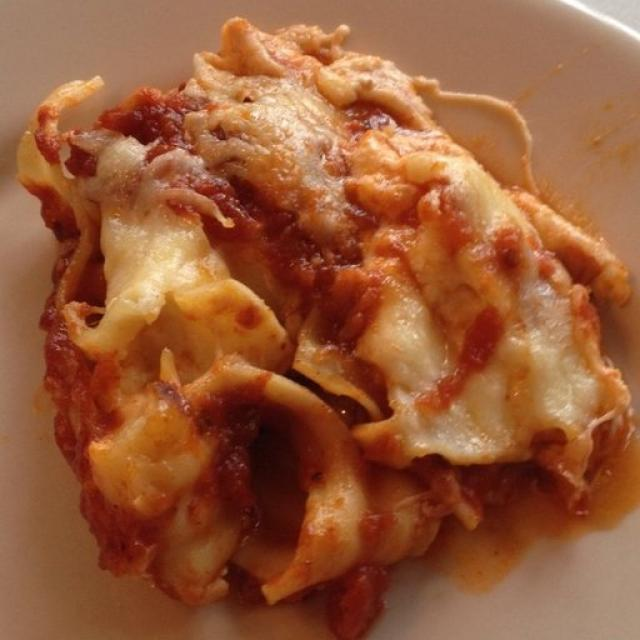Lasagna: (30, 32, 615, 600)
